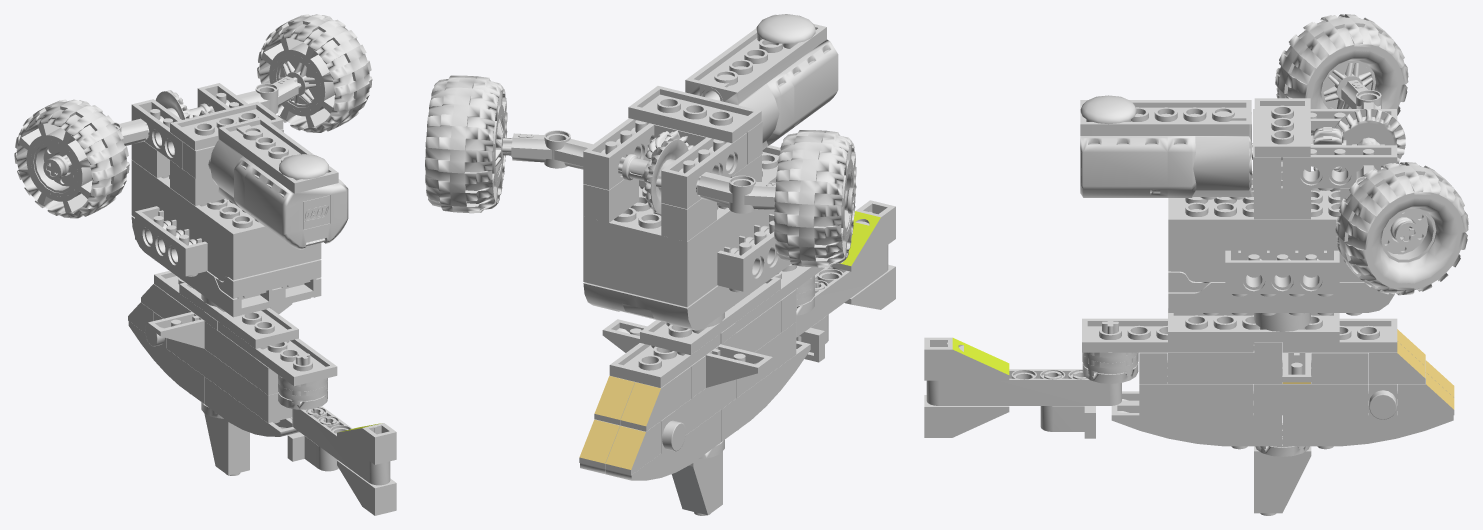
The model's file is shark.fbx.
3 renders of one model, left to right at view 1: azimuth 30°, elevation 25°; view 2: azimuth 150°, elevation 25°; view 3: azimuth 270°, elevation 25°, orthographic. The views are drawn at different scales.
Visible parts, largest first — view 1: Inner-Node-_430__43A__443__43B__435__43D__43E__43A__dot_io-. (×35), Inner-Node-_430__43A__443__43B__435__43D__43E__43A__dot_io-; view 2: Inner-Node-_430__43A__443__43B__435__43D__43E__43A__dot_io-. (×35), Inner-Node-_430__43A__443__43B__435__43D__43E__43A__dot_io-; view 3: Inner-Node-_430__43A__443__43B__435__43D__43E__43A__dot_io-. (×35), Inner-Node-_430__43A__443__43B__435__43D__43E__43A__dot_io-.
Boxes of the visible parts, x1,y1,x2,y2 form: Inner-Node-_430__43A__443__43B__435__43D__43E__43A__dot_io-. (×35): (14,14,396,515); Inner-Node-_430__43A__443__43B__435__43D__43E__43A__dot_io-: (208,117,348,249); Inner-Node-_430__43A__443__43B__435__43D__43E__43A__dot_io-. (×35): (425,14,895,515); Inner-Node-_430__43A__443__43B__435__43D__43E__43A__dot_io-: (685,14,838,149); Inner-Node-_430__43A__443__43B__435__43D__43E__43A__dot_io-. (×35): (924,14,1468,515); Inner-Node-_430__43A__443__43B__435__43D__43E__43A__dot_io-: (1080,100,1251,199).
Bounding box in the file's own units: 31535 × 32364 × 37963.
